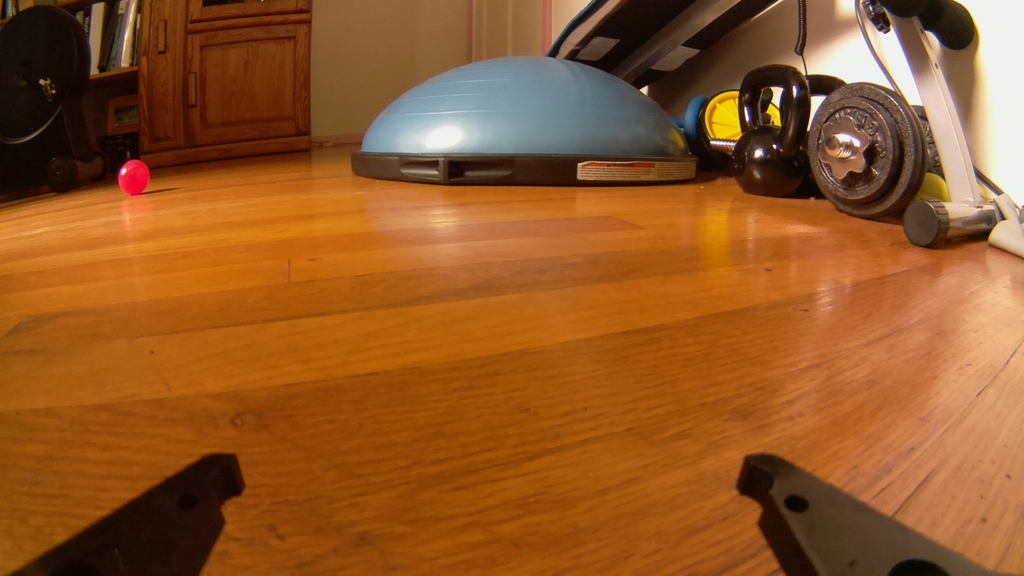ball: (115, 155, 152, 197)
